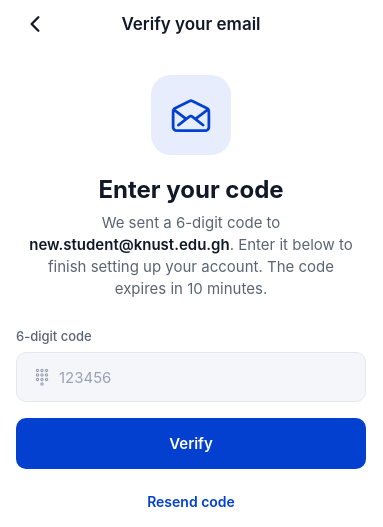
Test case: VerifyEmailScreen › resends the code and starts the cooldown
Click the element showing "Resend code" at (191, 502), box [147,493,235,510]
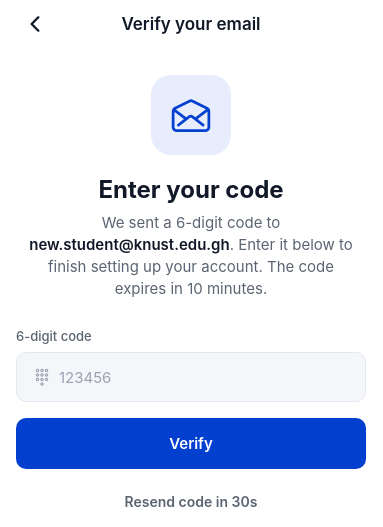
Now the text "Resend code in 30s" is shown, box [125,493,257,510]
